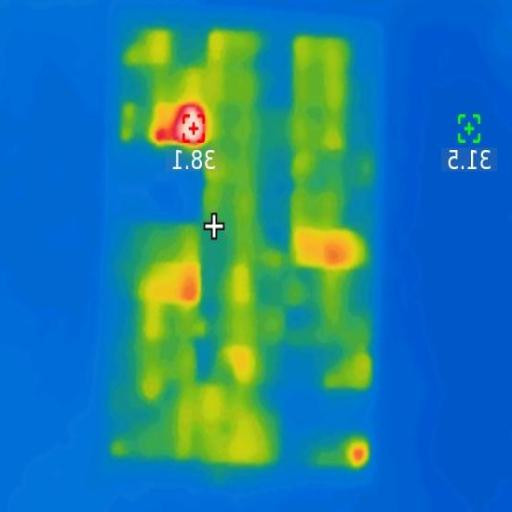hotspot: (153, 96, 211, 151), (178, 265, 200, 304), (349, 439, 365, 467)
